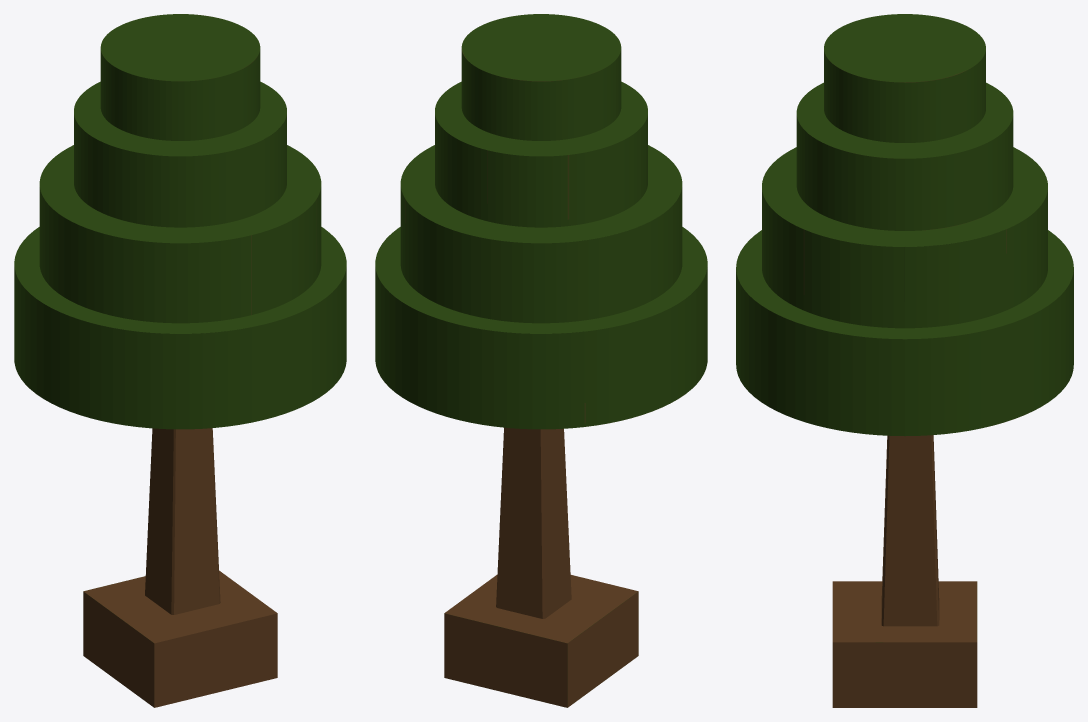
Rendered from tree2.fbx.
3 views of the same model, side by side, from view 1: azimuth 30°, elevation 25°; view 2: azimuth 150°, elevation 25°; view 3: azimuth 270°, elevation 25° (orthographic).
Parts seen in each view (by area): view 1: Cube.328; view 2: Cube.328; view 3: Cube.328.
Part boxes in pixels (x1,y1,x2,y2): Cube.328: (14,14,346,707); Cube.328: (375,14,707,707); Cube.328: (736,14,1073,707).
Size of the model in its own units: 579 by 579 by 1191.
